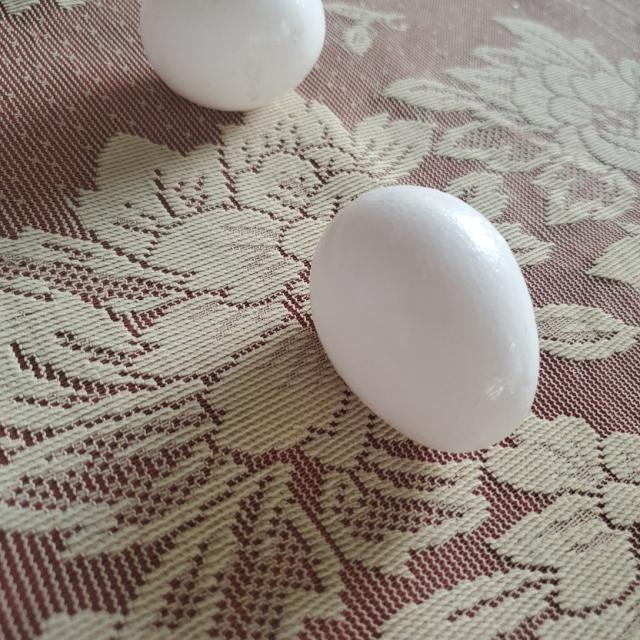egg: (312, 191, 540, 457), (137, 0, 330, 113)
